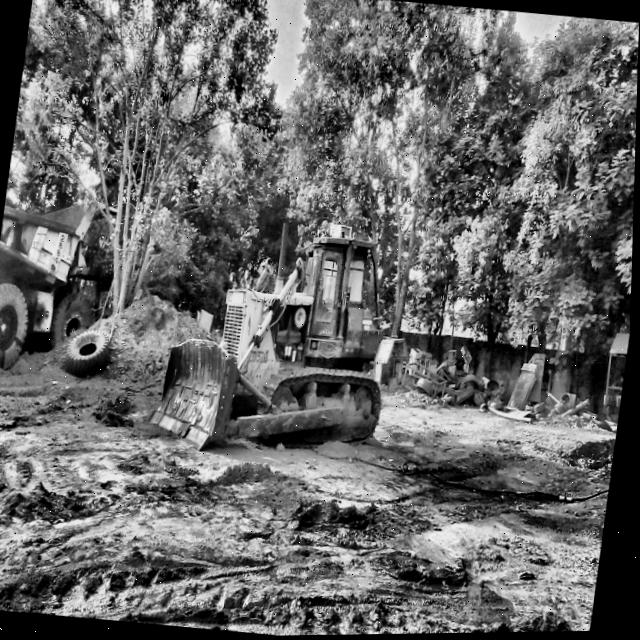buldozerpayloadergrader: (159, 229, 385, 446)
dump_truck: (0, 202, 95, 364)
